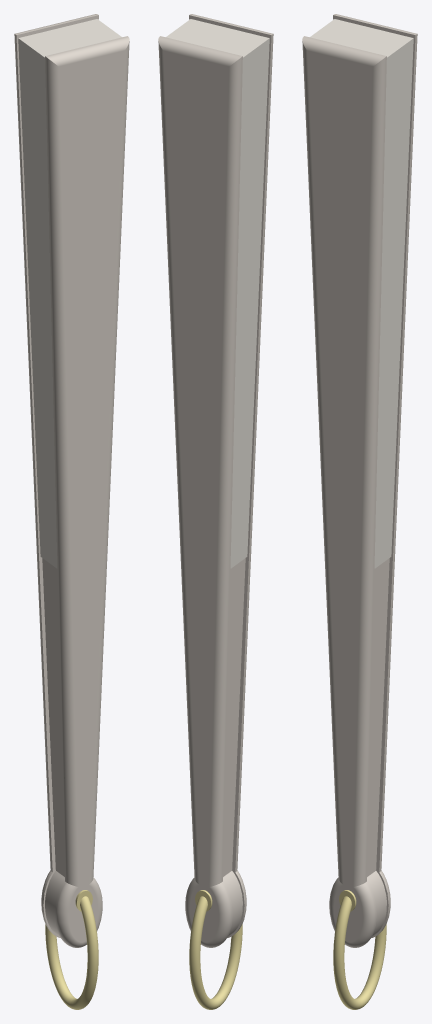
The model's file is 898_folding_fan_close.glb.
3 views of the same model, side by side, from view 1: azimuth 30°, elevation 25°; view 2: azimuth 150°, elevation 25°; view 3: azimuth 330°, elevation 25° (orthographic).
Parts seen in each view (by area): view 1: Body; view 2: Body; view 3: Body.
Part boxes in pixels (bbox=[...]): Body: bbox=[14, 14, 129, 1009]; Body: bbox=[158, 14, 273, 1009]; Body: bbox=[302, 14, 417, 1009].
Bounding box in the file's own units: 0.0257 × 0.2894 × 0.0258.
